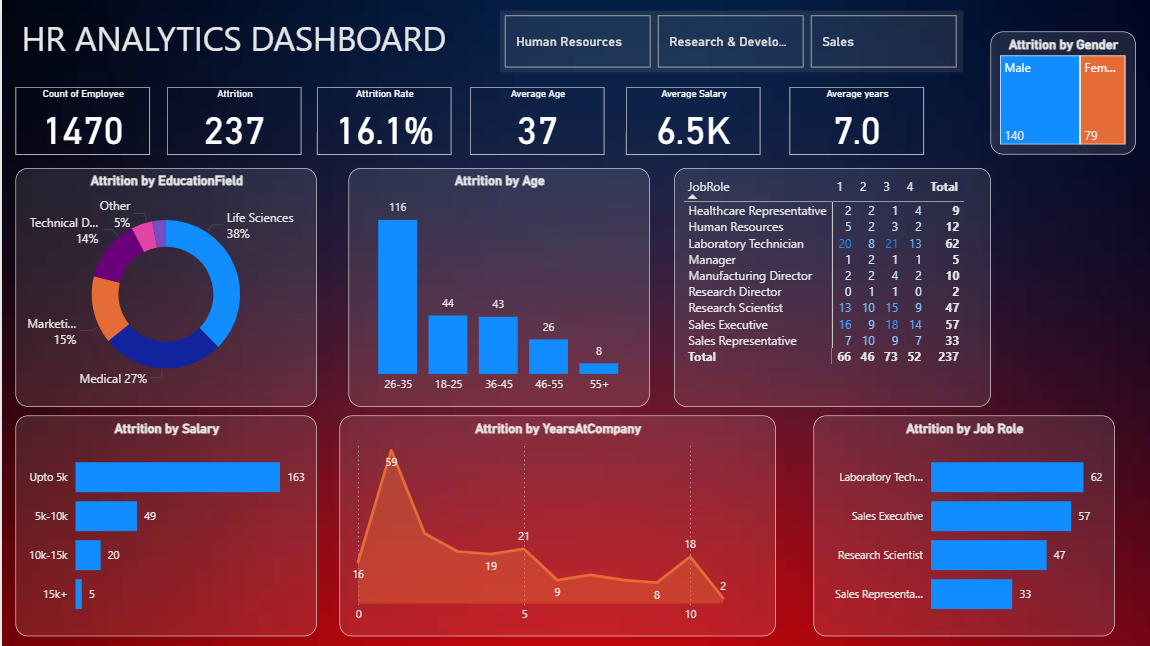

What the dashboard file says about the page in this screenshot:
{"tool":"powerbi","page":{"name":"Page 1","canvas":[1280,720],"ordinal":0},"visuals":[{"type":"card","title":"Count of Employee","fields":{"Values":["CountNonNull(HR_Analytics (1).EmpID)"]},"box":[15.7,96.9,149.7,75.5],"z":0},{"type":"card","title":"Attrition","fields":{"Values":["Sum(HR_Analytics (1).AttritionCount)"]},"box":[183.9,96.9,149.7,75.5],"z":1000},{"type":"card","title":"Attrition Rate","fields":{"Values":["HR_Analytics (1).AttritionRates"]},"box":[350.6,96.9,149.7,75.5],"z":2000},{"type":"card","title":"Average Salary","fields":{"Values":["Avg(HR_Analytics (1).MonthlyIncome)"]},"box":[692.7,96.9,149.7,75.5],"z":3000},{"type":"card","title":"Average Age","fields":{"Values":["Avg(HR_Analytics (1).Age)"]},"box":[520.3,96.9,149.7,75.5],"z":4000},{"type":"card","title":"Average years","fields":{"Values":["Avg(HR_Analytics (1).YearsAtCompany)"]},"box":[875.2,96.9,149.7,75.5],"z":5000},{"type":"donutChart","title":"Attrition by EducationField","fields":{"Category":["HR_Analytics (1).EducationField"],"Y":["Sum(HR_Analytics (1).AttritionCount)"]},"box":[15.7,186.7,335,265.1],"z":6000},{"type":"columnChart","title":"Attrition by Age","fields":{"Category":["HR_Analytics (1).AgeGroup"],"Y":["Sum(HR_Analytics (1).AttritionCount)"]},"box":[384.9,186.7,335,265.1],"z":7000},{"type":"pivotTable","fields":{"Rows":["HR_Analytics (1).JobRole"],"Columns":["HR_Analytics (1).JobSatisfaction"],"Values":["Sum(HR_Analytics (1).AttritionCount)"]},"box":[746.9,186.7,352.1,265.1],"z":8000},{"type":"barChart","title":"Attrition by Salary","fields":{"Category":["HR_Analytics (1).SalarySlab"],"Y":["Sum(HR_Analytics (1).AttritionCount)"]},"box":[15.7,461.8,335,245.2],"z":9000},{"type":"barChart","title":"Attrition by Job Role","fields":{"Category":["HR_Analytics (1).JobRole"],"Y":["Sum(HR_Analytics (1).AttritionCount)"]},"box":[900.8,461.8,335,245.2],"z":10000},{"type":"areaChart","title":"Attrition by YearsAtCompany","fields":{"Category":["HR_Analytics (1).YearsAtCompany"],"Y":["Sum(HR_Analytics (1).AttritionCount)"]},"box":[374.9,461.8,484.6,245.2],"z":11000},{"type":"treemap","title":"Attrition by Gender","fields":{"Group":["HR_Analytics (1).Gender"],"Values":["Sum(HR_Analytics (1).AttritionCount)"]},"box":[1099,35.6,161.1,136.8],"z":12000},{"type":"advancedSlicerVisual","fields":{"Values":["HR_Analytics (1).Department"]},"box":[553.1,11.4,514.6,68.4],"z":13000},{"type":"textbox","box":[15.9,11,514.9,68.7],"z":14000}]}

Visuals, with their boxes in screenshot pixels (x1, y1, x2, y2), scaled from the page's 1280x720 canvas onto the 1150x646 screenshot:
"Count of Employee" card: BBox(14, 87, 149, 155)
"Attrition" card: BBox(165, 87, 300, 155)
"Attrition Rate" card: BBox(315, 87, 449, 155)
"Average Salary" card: BBox(622, 87, 757, 155)
"Average Age" card: BBox(467, 87, 602, 155)
"Average years" card: BBox(786, 87, 921, 155)
"Attrition by EducationField" donutChart: BBox(14, 168, 315, 405)
"Attrition by Age" columnChart: BBox(346, 168, 647, 405)
pivotTable - HR_Analytics (1).JobRole x HR_Analytics (1).JobSatisfaction: BBox(671, 168, 987, 405)
"Attrition by Salary" barChart: BBox(14, 414, 315, 634)
"Attrition by Job Role" barChart: BBox(809, 414, 1110, 634)
"Attrition by YearsAtCompany" areaChart: BBox(337, 414, 772, 634)
"Attrition by Gender" treemap: BBox(987, 32, 1132, 155)
advancedSlicerVisual - HR_Analytics (1).Department: BBox(497, 10, 959, 72)
textbox: BBox(14, 10, 477, 72)
